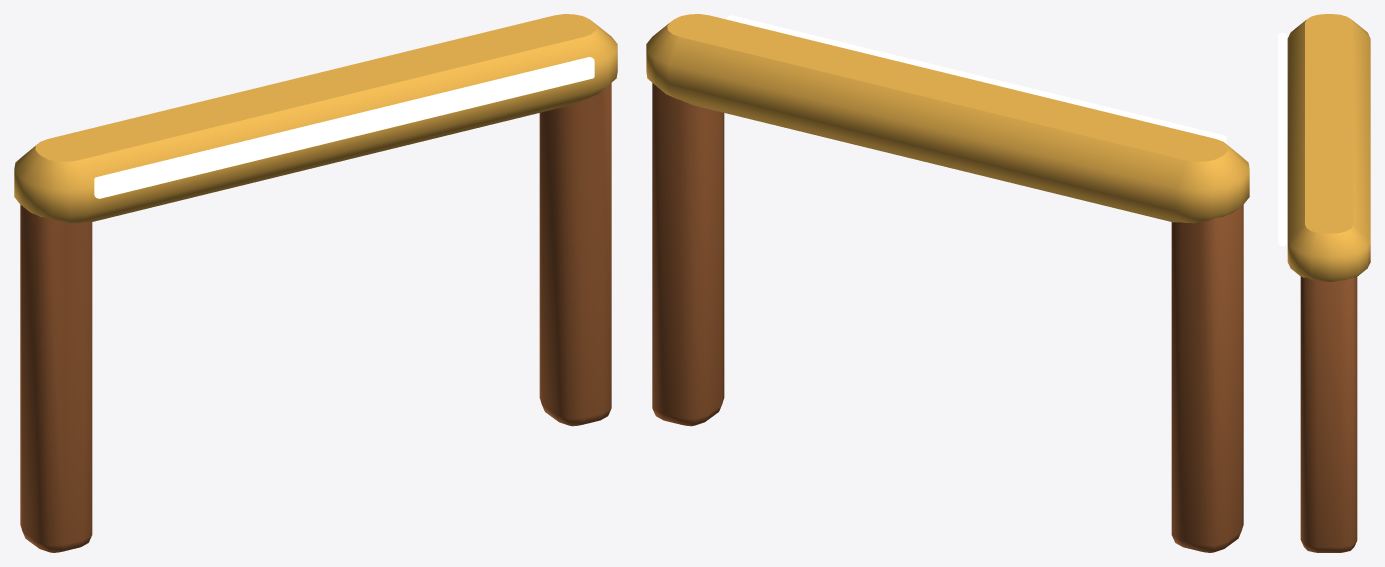
File: gold_gate.glb
3 views of the same model, side by side, from view 1: azimuth 30°, elevation 25°; view 2: azimuth 150°, elevation 25°; view 3: azimuth 270°, elevation 25° (orthographic). The views are drawn at different scales.
Parts seen in each view (by area): view 1: gold_gate; view 2: gold_gate; view 3: gold_gate.
Boxes of the visible parts, x1,y1,x2,y2 form: gold_gate: (14, 14, 617, 552); gold_gate: (646, 14, 1249, 552); gold_gate: (1278, 14, 1370, 552).
Size of the model in its own units: 2.74 by 1.75 by 0.456.
